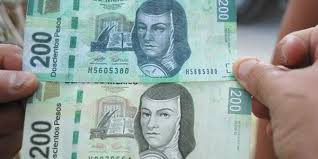billete: (22, 81, 252, 159), (22, 1, 237, 83)
